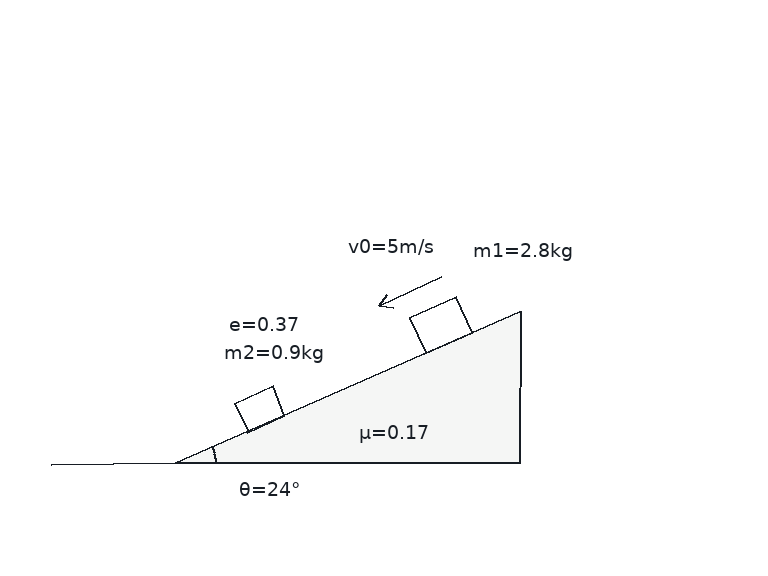block: (407, 295, 473, 354), (232, 385, 287, 434)
ramp: (174, 308, 521, 465)
